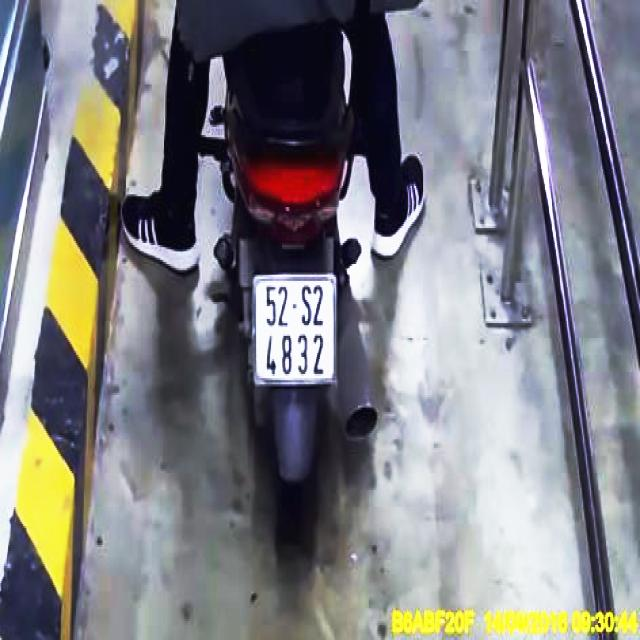license_plate: (255, 277, 338, 380)
